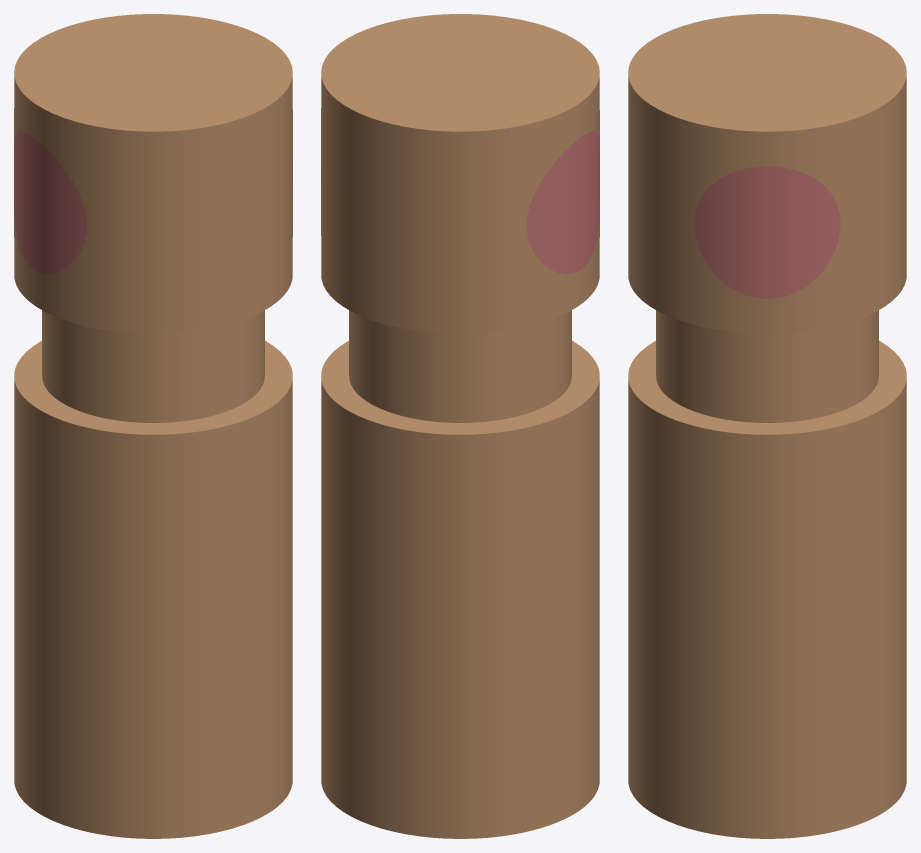
Rendered from step_14.glb.
3 views of the same model, side by side, from view 1: azimuth 30°, elevation 25°; view 2: azimuth 150°, elevation 25°; view 3: azimuth 270°, elevation 25° (orthographic).
Parts seen in each view (by area): view 1: part__screw M20 x 2.5 x 56, removed__screw M20 x 2.5 x 56; view 2: part__screw M20 x 2.5 x 56, removed__screw M20 x 2.5 x 56; view 3: part__screw M20 x 2.5 x 56, removed__screw M20 x 2.5 x 56.
Boxes of the visible parts, bbox=[...] form: part__screw M20 x 2.5 x 56: bbox=[14, 14, 292, 838]; removed__screw M20 x 2.5 x 56: bbox=[14, 131, 292, 274]; part__screw M20 x 2.5 x 56: bbox=[321, 14, 599, 838]; removed__screw M20 x 2.5 x 56: bbox=[321, 131, 599, 274]; part__screw M20 x 2.5 x 56: bbox=[628, 14, 906, 838]; removed__screw M20 x 2.5 x 56: bbox=[694, 166, 840, 298].
Bounding box in the file's own units: 20 × 56 × 19.99.
